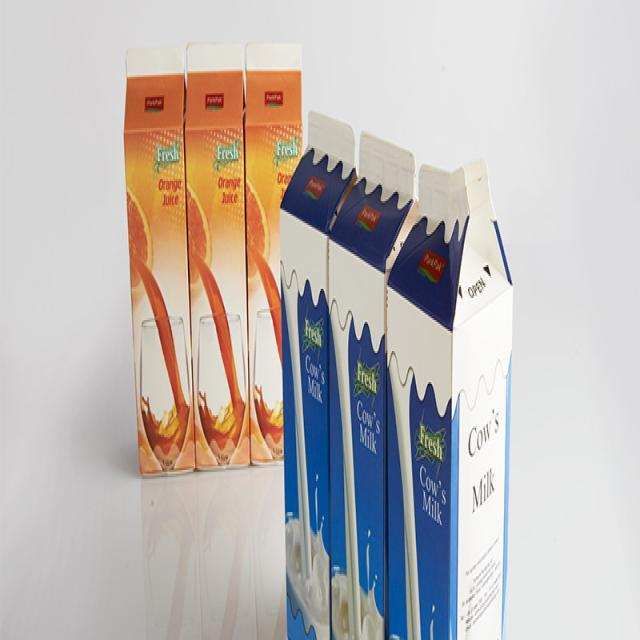Carton: (391, 128, 538, 640), (326, 98, 423, 640), (274, 80, 360, 640), (110, 36, 202, 510), (246, 20, 318, 478), (186, 28, 252, 504)
